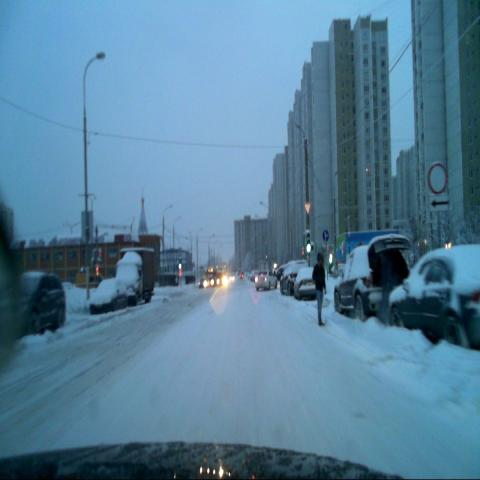3_2: (428, 160, 448, 194)
8_3_2: (430, 196, 448, 214)
